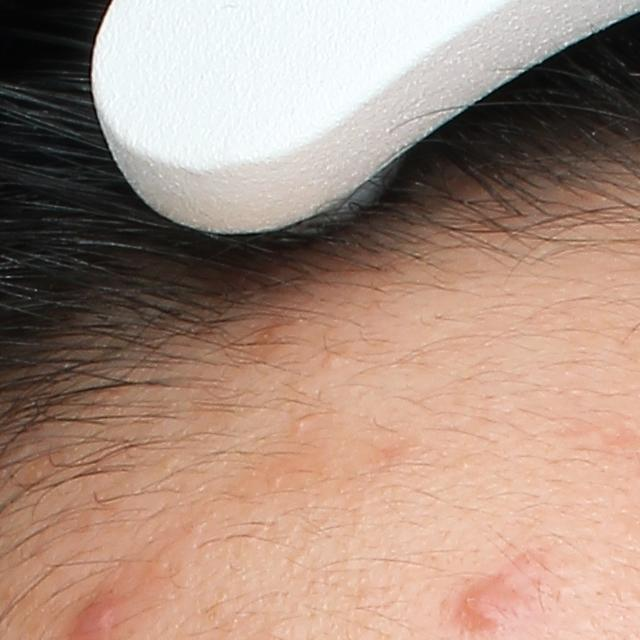comedo: (293, 415, 309, 430)
papule: (68, 600, 118, 640)
